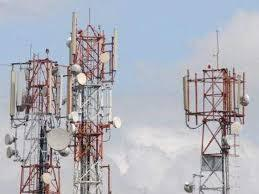Microwave Antenna: (45, 126, 72, 150), (40, 167, 53, 188), (231, 120, 244, 140), (242, 92, 256, 110), (3, 131, 18, 146), (67, 108, 82, 123), (74, 74, 88, 88), (70, 63, 83, 78), (112, 114, 124, 130), (99, 51, 111, 65), (181, 181, 195, 193), (59, 144, 71, 157), (65, 37, 75, 52), (7, 148, 16, 162)
antenna: (175, 76, 195, 117), (7, 70, 19, 120), (70, 10, 77, 55)
